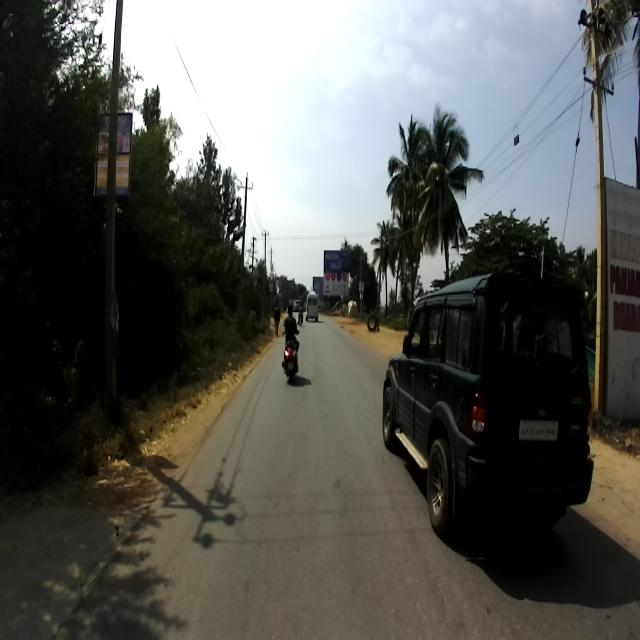car ahead at: (376, 278, 601, 584)
